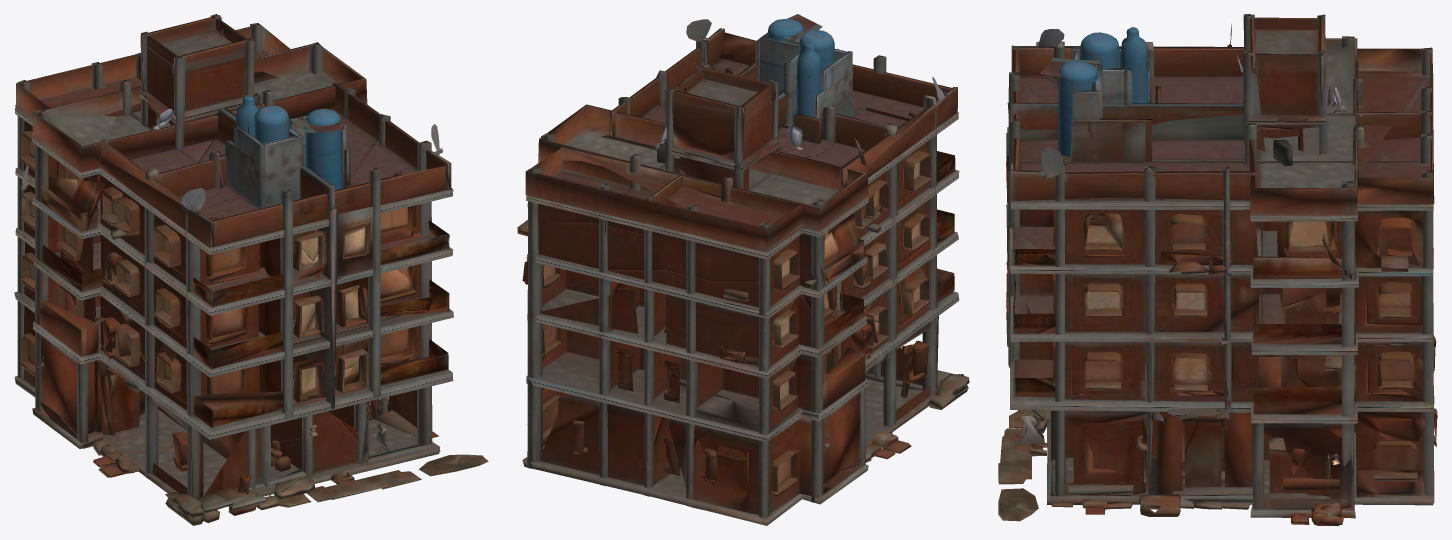
3 renders of one model, left to right at view 1: azimuth 30°, elevation 25°; view 2: azimuth 150°, elevation 25°; view 3: azimuth 270°, elevation 25°, orthographic. The views are drawn at different scales.
Visible parts, largest first — view 1: geometry_0; view 2: geometry_0; view 3: geometry_0.
Boxes of the visible parts, x1=… form: geometry_0: x1=14, y1=14, x2=488, y2=525; geometry_0: x1=517, y1=14, x2=969, y2=525; geometry_0: x1=998, y1=14, x2=1437, y2=525.
Size of the model in its own units: 0.8933 by 1 by 0.9945.
Materials: 1 (1 with a texture image).
